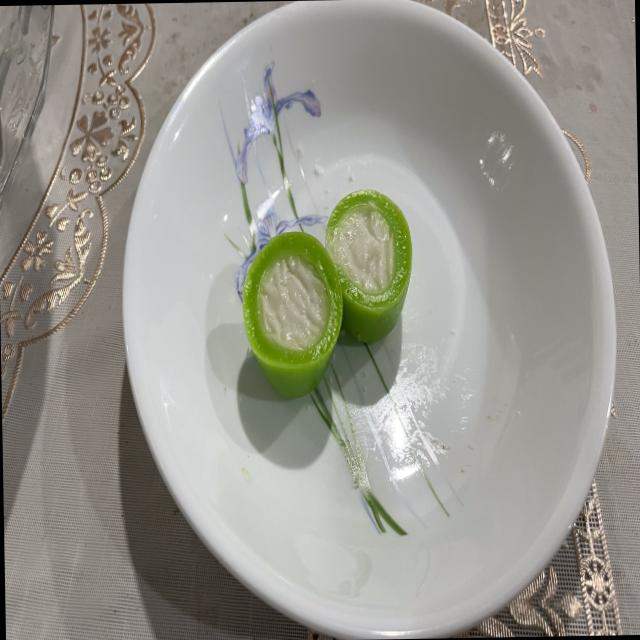nona-manis: (242, 231, 342, 396), (325, 190, 411, 342)
